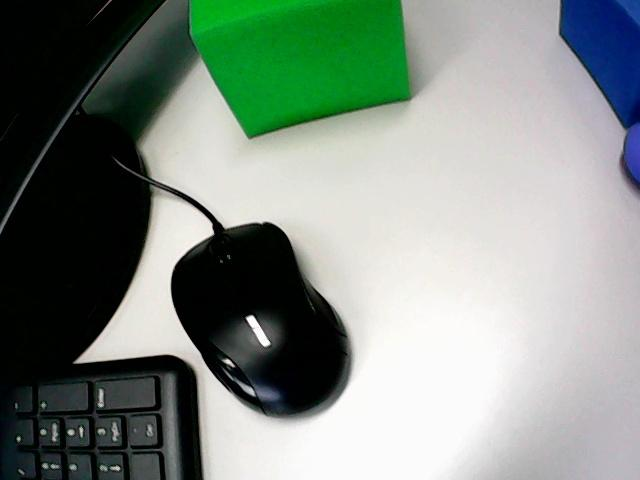blue_block: (560, 0, 639, 127)
